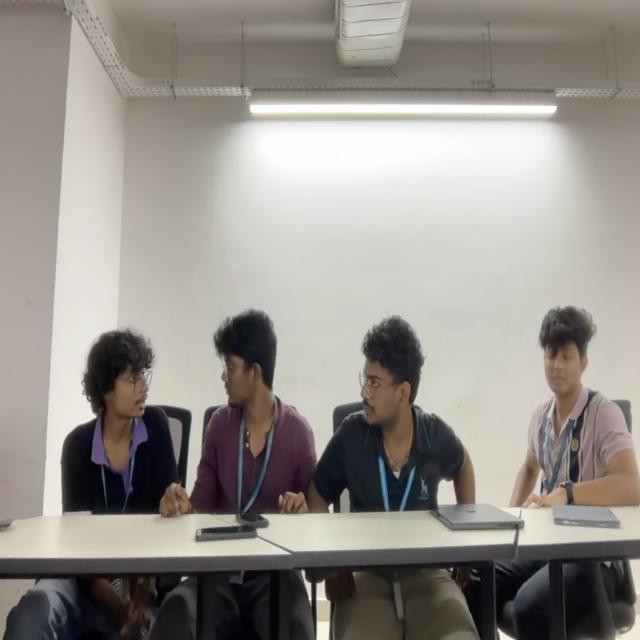Isolated: (509, 305, 640, 507)
socializing: (60, 310, 482, 531)
